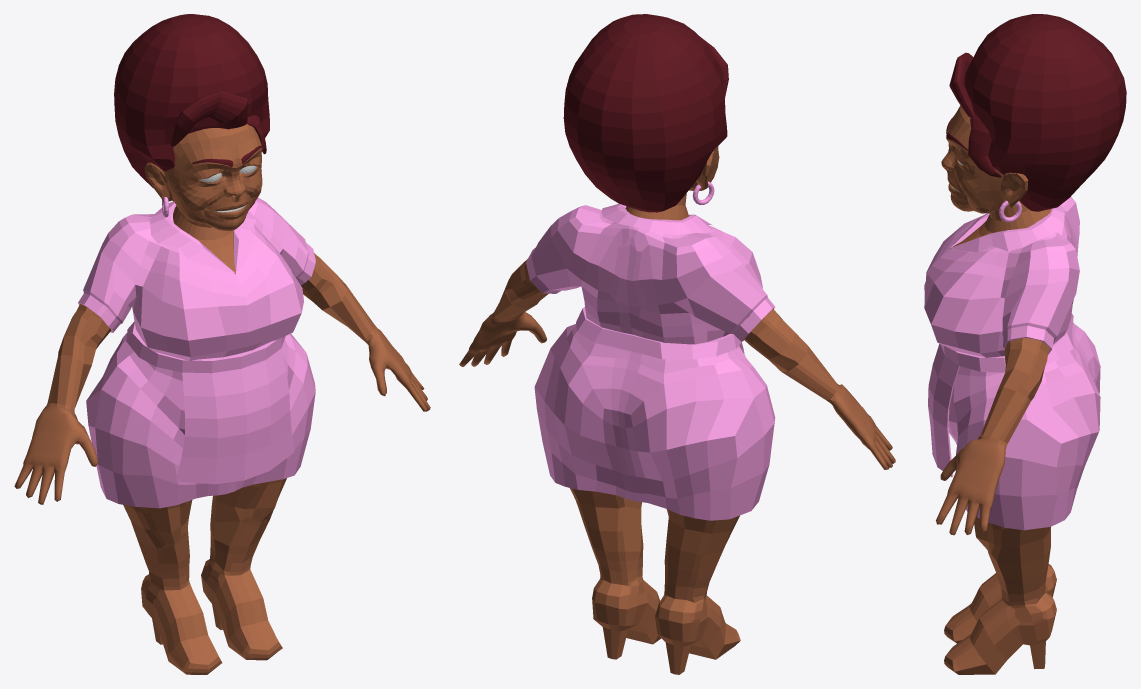
Rendered from NPC_Candy_PoseA.fbx.
3 views of the same model, side by side, from view 1: azimuth 30°, elevation 25°; view 2: azimuth 150°, elevation 25°; view 3: azimuth 270°, elevation 25° (orthographic). The views are drawn at different scales.
Visible parts, largest first — view 1: Body; view 2: Body; view 3: Body.
Boxes of the visible parts, left/top/right/bottom form: Body: left=14, top=14, right=430, bottom=674; Body: left=459, top=14, right=895, bottom=674; Body: left=924, top=14, right=1126, bottom=674.
Size of the model in its own units: 108 by 155 by 45.11.
